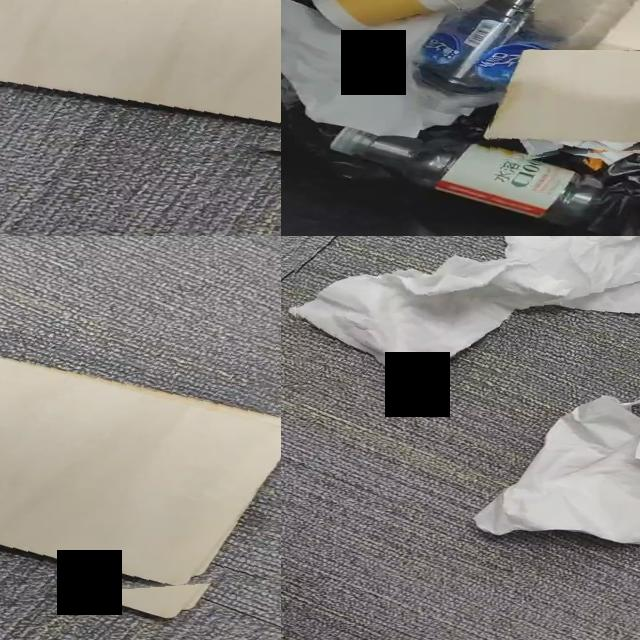bottle: (330, 129, 602, 223), (413, 0, 605, 115), (488, 50, 640, 145)
carton: (0, 362, 281, 592), (0, 0, 281, 130), (532, 0, 640, 61)
dixie_cup: (313, 0, 456, 32)
paper: (295, 236, 640, 384), (474, 396, 640, 545), (281, 0, 456, 137), (519, 144, 629, 165)
